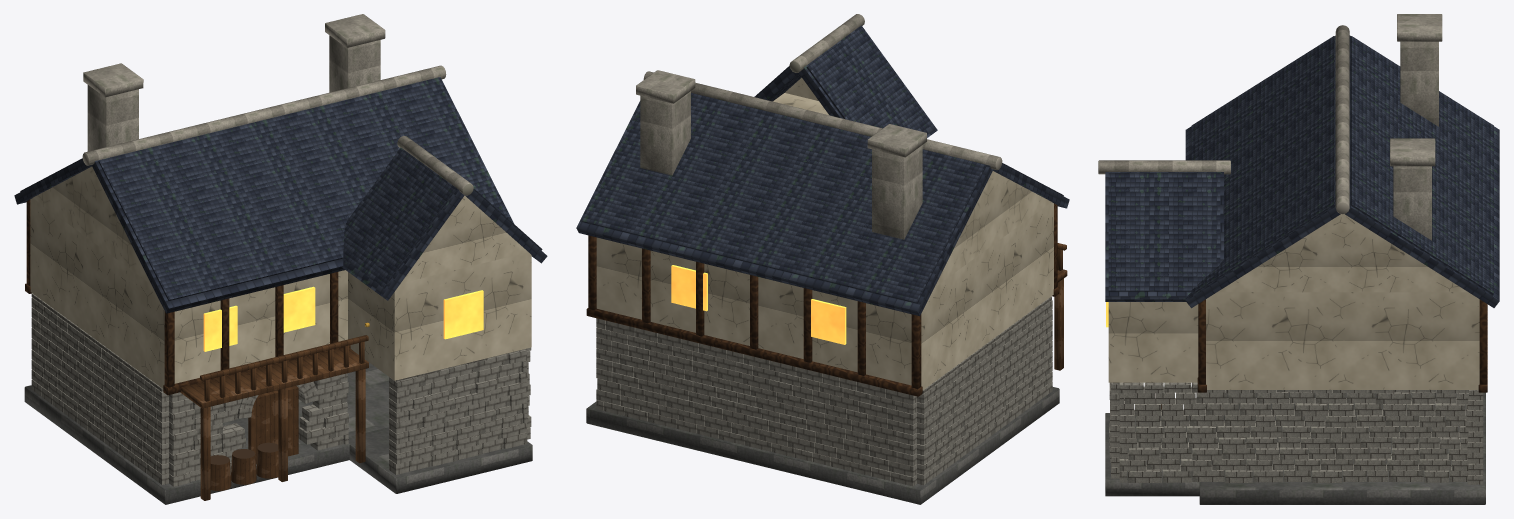
The model's file is bld_medieval_tavern_inn.glb.
3 renders of one model, left to right at view 1: azimuth 30°, elevation 25°; view 2: azimuth 150°, elevation 25°; view 3: azimuth 270°, elevation 25°, orthographic. The views are drawn at different scales.
Parts seen in each view (by area): view 1: slate_roof_shingles, upper_plaster_walls, ground_masonry_walls, roof_ridges_chimneys, stone_plinth, balcony_and_porch, ale_barrels_and_door, warm_tavern_windows, half_timber_beams; view 2: slate_roof_shingles, ground_masonry_walls, upper_plaster_walls, roof_ridges_chimneys, half_timber_beams, stone_plinth, warm_tavern_windows, balcony_and_porch; view 3: slate_roof_shingles, upper_plaster_walls, ground_masonry_walls, roof_ridges_chimneys, stone_plinth, half_timber_beams.
Part boxes in pixels (box(x1,y1,x2,y2)): slate_roof_shingles: box(14, 77, 547, 313); upper_plaster_walls: box(30, 166, 531, 388); ground_masonry_walls: box(31, 293, 531, 486); roof_ridges_chimneys: box(82, 14, 473, 195); stone_plinth: box(24, 352, 532, 504); balcony_and_porch: box(180, 335, 368, 500); ale_barrels_and_door: box(210, 386, 298, 490); warm_tavern_windows: box(203, 286, 483, 351); half_timber_beams: box(25, 199, 351, 395); slate_roof_shingles: box(576, 25, 1069, 316); ground_masonry_walls: box(596, 296, 1052, 486); upper_plaster_walls: box(596, 77, 1053, 389); roof_ridges_chimneys: box(636, 14, 1002, 239); half_timber_beams: box(586, 203, 1059, 396); stone_plinth: box(586, 387, 1059, 504); warm_tavern_windows: box(671, 265, 846, 344); balcony_and_porch: box(1054, 243, 1067, 370); slate_roof_shingles: box(1105, 35, 1499, 308); upper_plaster_walls: box(1108, 214, 1479, 389); ground_masonry_walls: box(1109, 382, 1483, 484); roof_ridges_chimneys: box(1098, 14, 1442, 240); stone_plinth: box(1105, 390, 1485, 504); half_timber_beams: box(1197, 299, 1487, 392).
Bounding box in the file's own units: 12 × 10.79 × 11.49.
9 materials, 9 textured.
